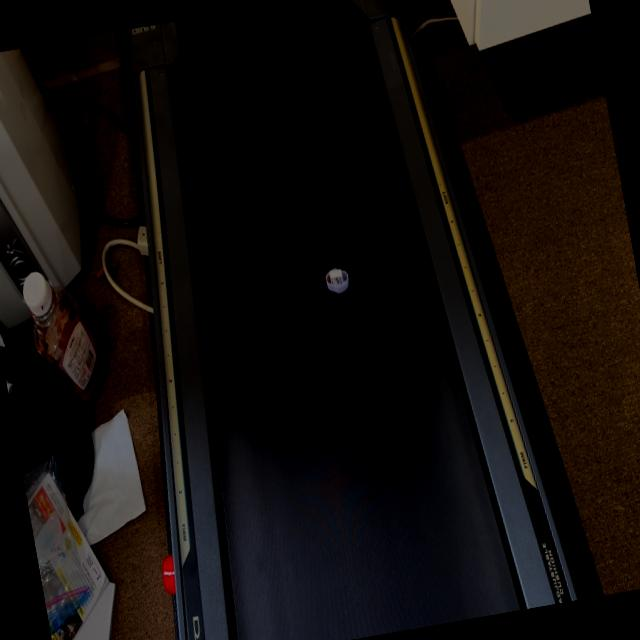Trash: (322, 266, 352, 299)
